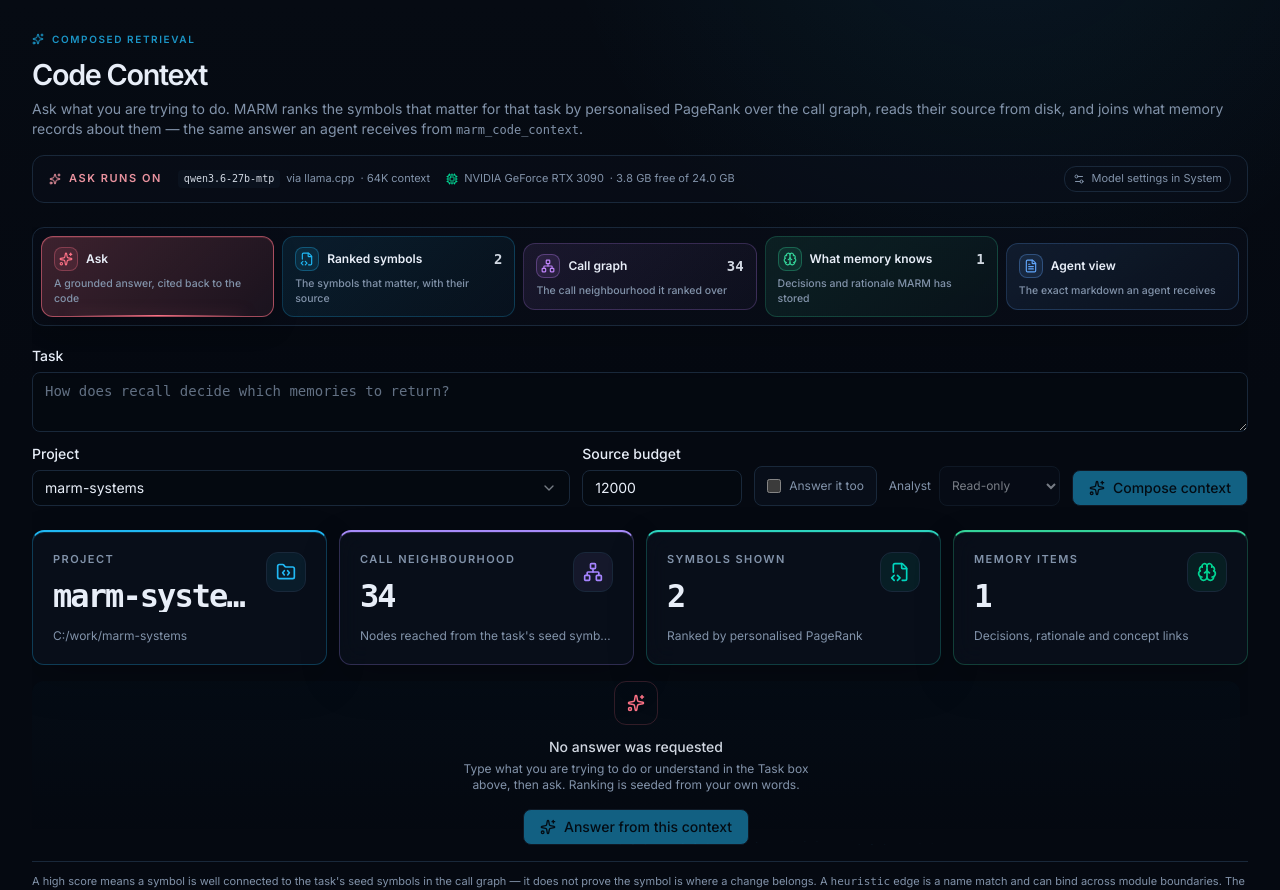
Test case: CodeContextPage › groups symbols by file, best-ranked file first
The width and height of the screenshot is (1280, 890).
What coordinates should you click on to do the following:
click the tab "Ranked symbols 2 The symbols that matter, with their source"
I would click on:
 (399, 277)
Its box is [282,236,515,317].
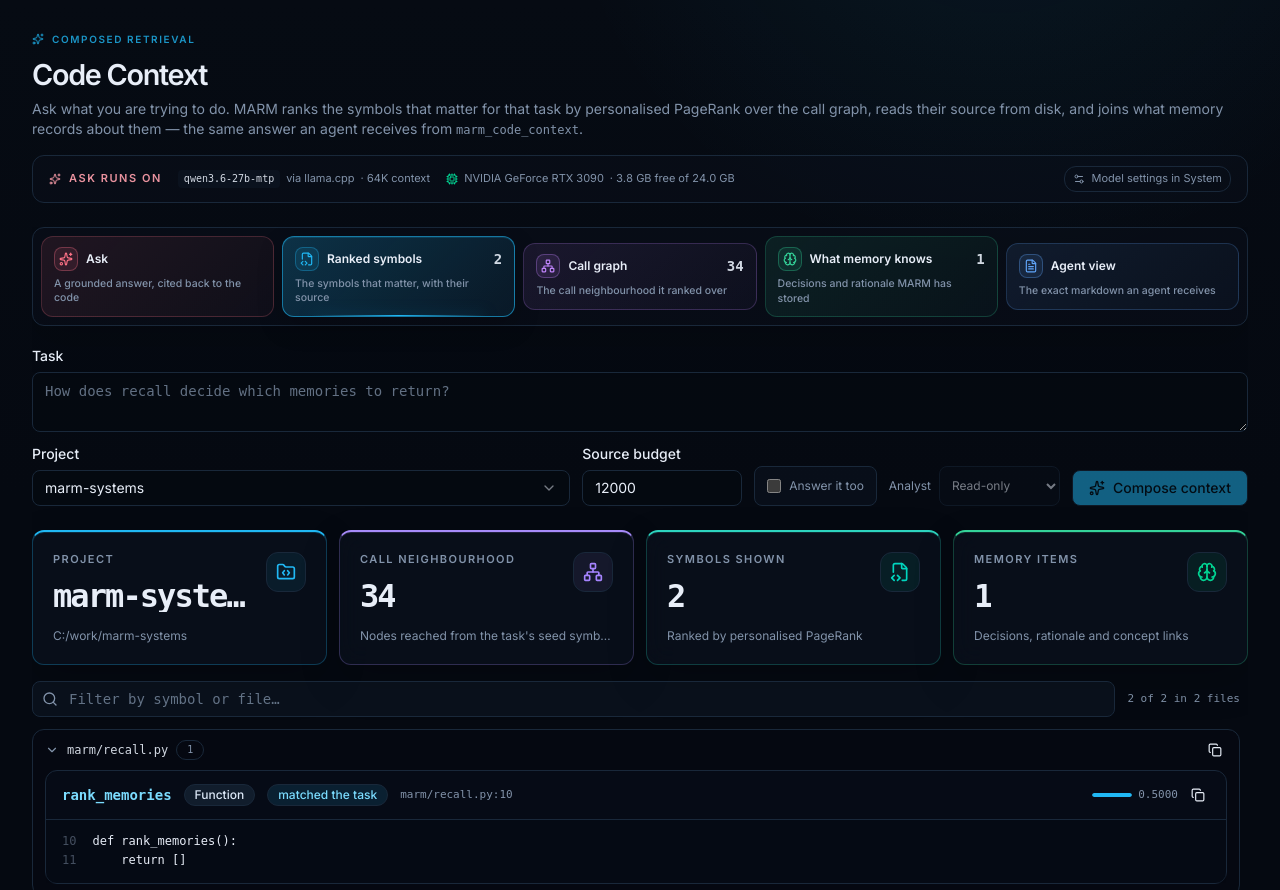
Result: the text titled "marm/recall.py" is shown at [67,742,168,758]
